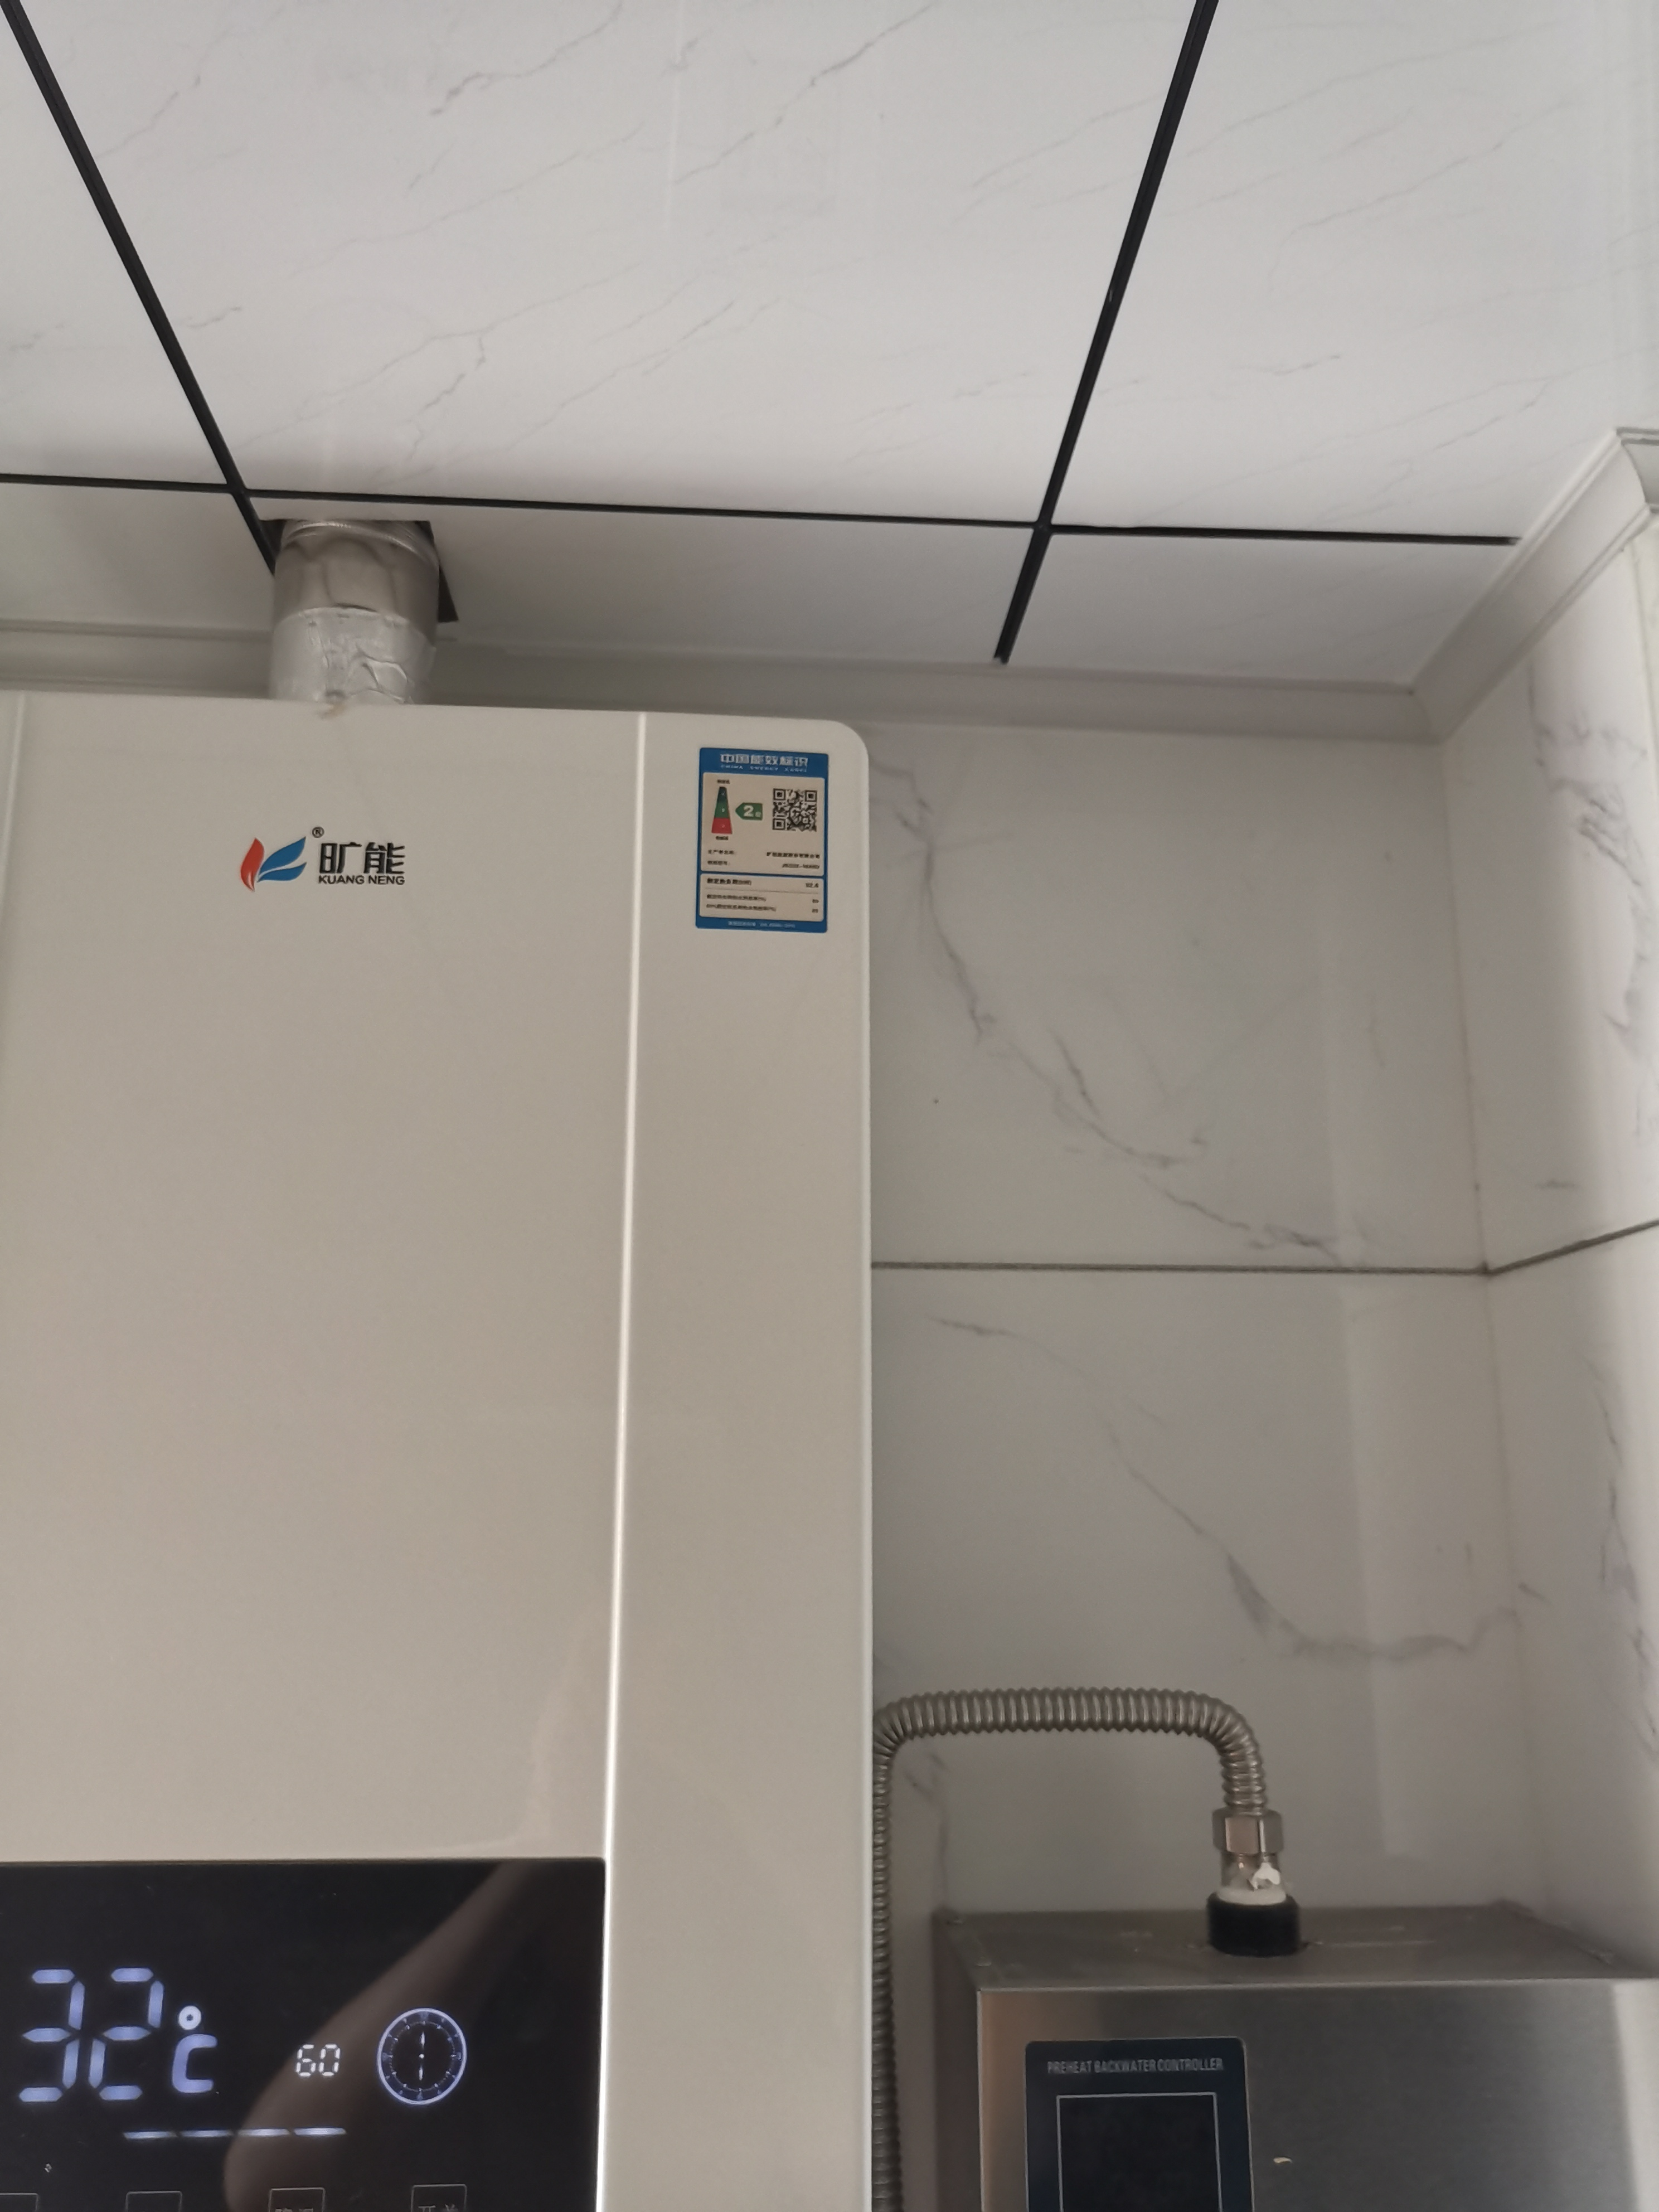loudou: (220, 806, 443, 909)
